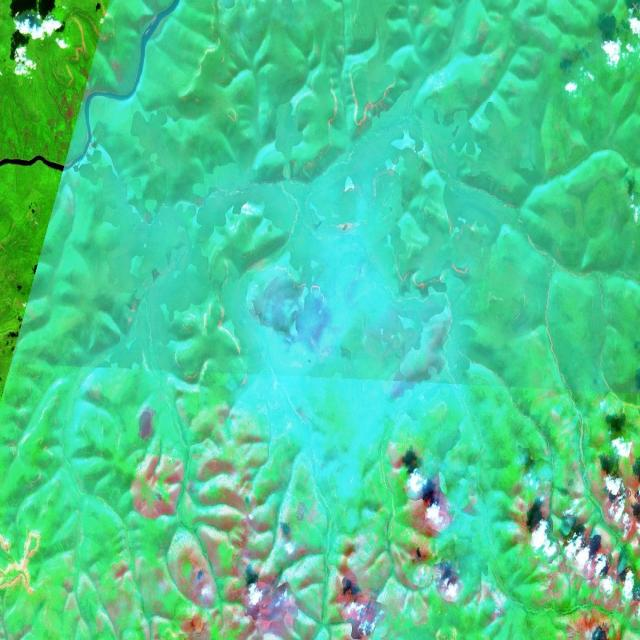fire: (248, 268, 334, 360)
